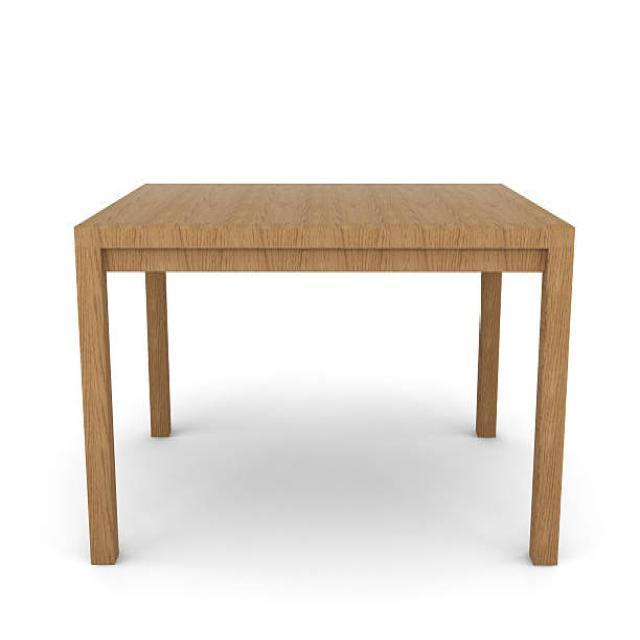table: (73, 180, 575, 568)
